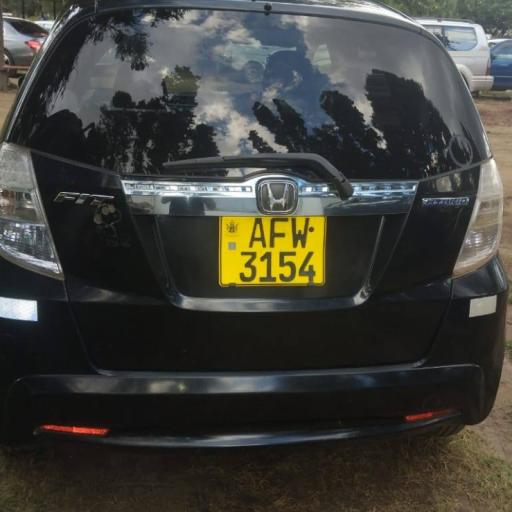number-plates: (218, 213, 320, 280)
